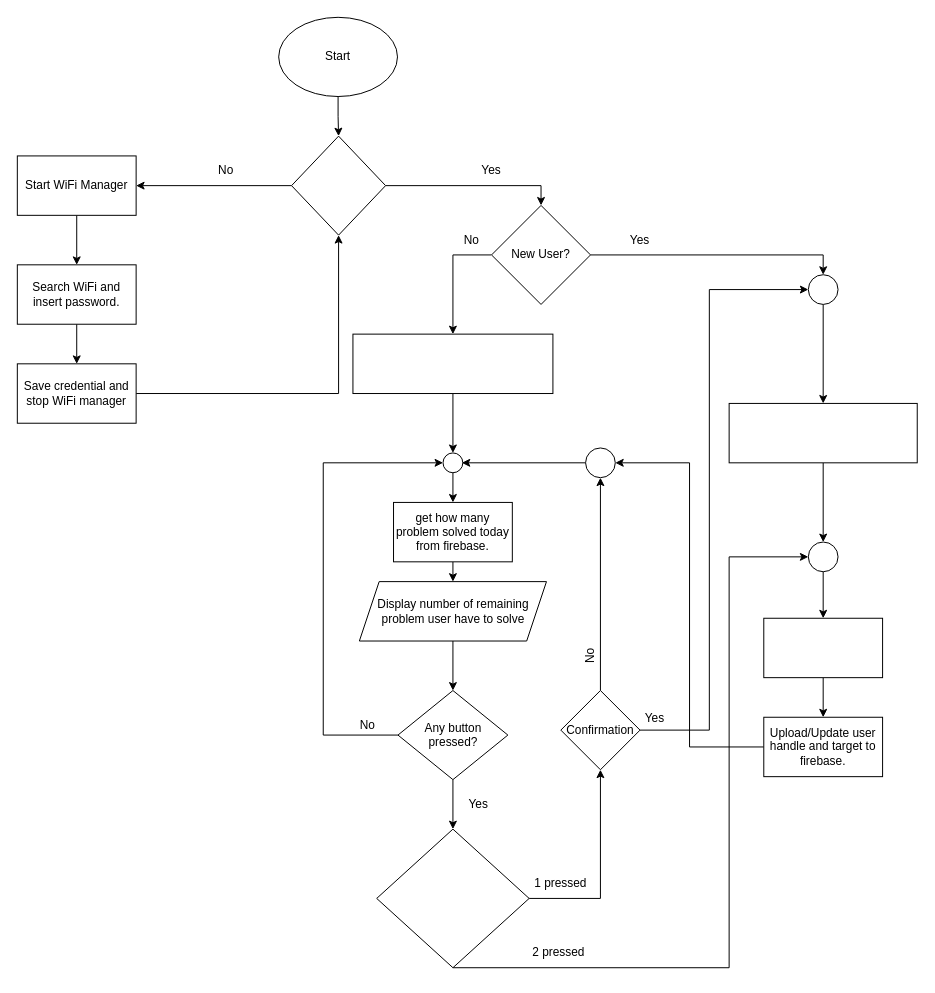
Some shapes in this 935 by 993 pixel diagram are drawn without their labels. The shapes that lost their labels are listed below. From the top down, each one's box as (x1, y1, x2, y2) in pixels, then its label:
(291, 135, 386, 235): Connected to WiFi?
(352, 333, 553, 394): Get codeforces handle and daily target from Firebase.
(728, 402, 917, 463): Starting web server to get Codeforces user handle
(763, 617, 883, 678): Insert daily target.
(376, 828, 529, 968): 1.Reset Button pressed. 2.Target change button pressed
